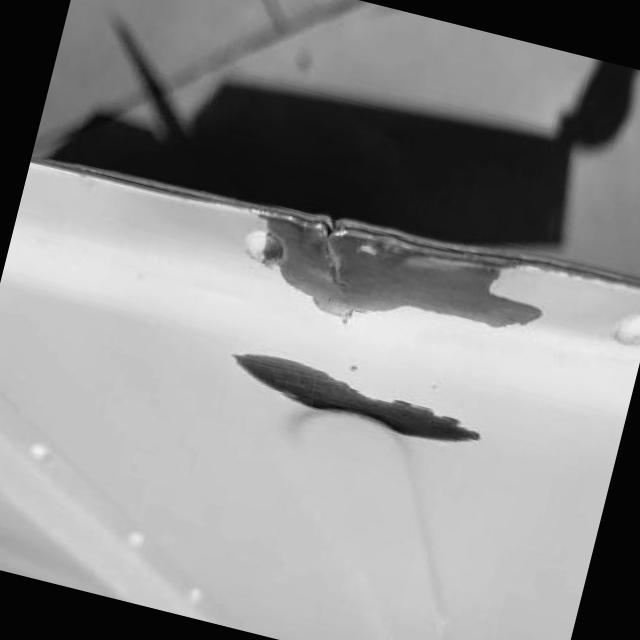crack: (310, 207, 382, 287)
